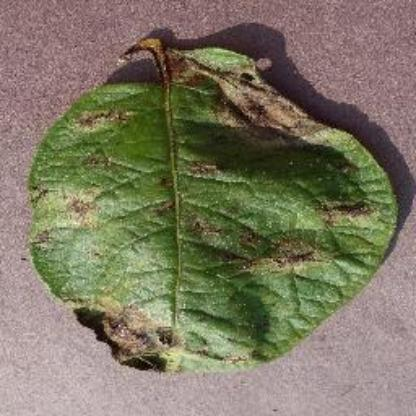Late-Blight: (24, 26, 400, 386)
